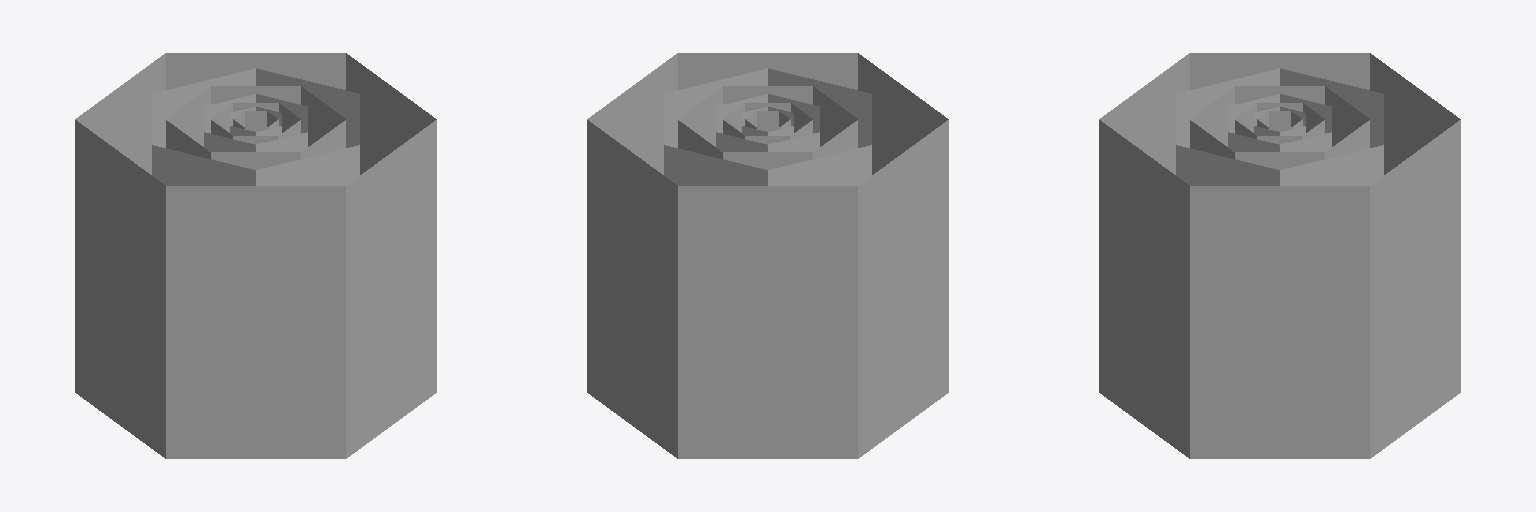
File: rainfall.obj
3 renders of one model, left to right at view 1: azimuth 30°, elevation 25°; view 2: azimuth 150°, elevation 25°; view 3: azimuth 270°, elevation 25°, orthographic.
Visible parts, largest first — view 1: Plane_Plane.012; view 2: Plane_Plane.012; view 3: Plane_Plane.012.
Part boxes in pixels (bbox=[...]): Plane_Plane.012: bbox=[75, 53, 436, 458]; Plane_Plane.012: bbox=[587, 53, 948, 458]; Plane_Plane.012: bbox=[1099, 53, 1460, 458].
Bounding box in the file's own units: 12.99 × 12.5 × 15.